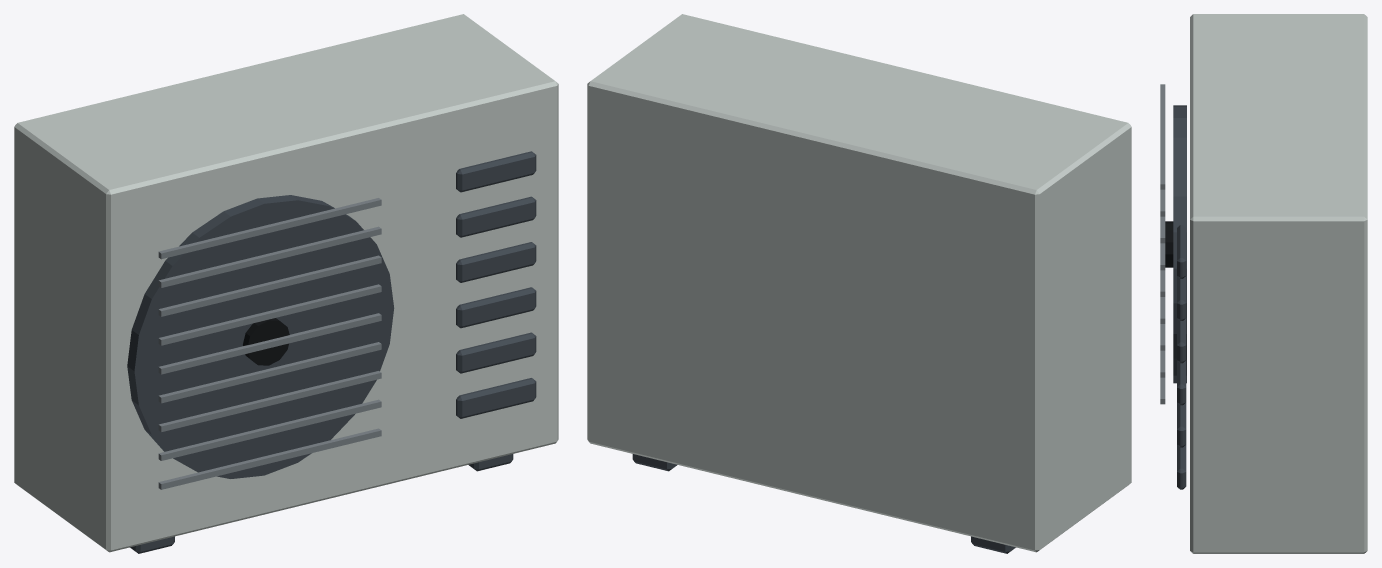
File: AirConditioningUnit.fbx
The picture shows the model from 3 angles, left to right: view 1: azimuth 30°, elevation 25°; view 2: azimuth 150°, elevation 25°; view 3: azimuth 270°, elevation 25°; orthographic projection. The views are drawn at different scales.
Visible parts, largest first — view 1: AirConditioningUnit; view 2: AirConditioningUnit; view 3: AirConditioningUnit.
Boxes of the visible parts, <box> form: AirConditioningUnit: <box>14,14,558,553</box>; AirConditioningUnit: <box>587,14,1131,553</box>; AirConditioningUnit: <box>1160,14,1367,553</box>.
Bounding box in the file's own units: 115 × 92 × 49.
Materials: 1 (1 with a texture image).
